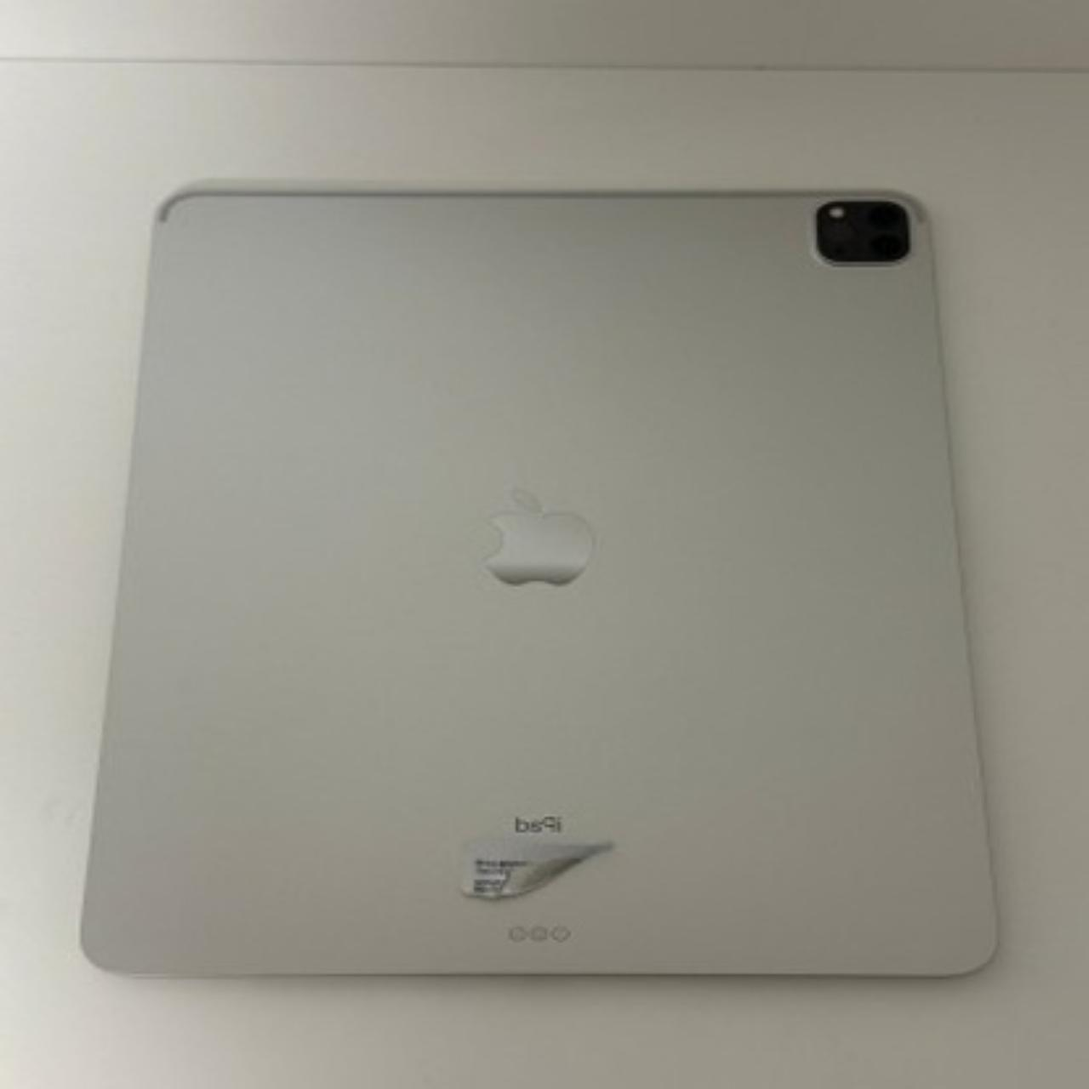Tablet_PC: (60, 178, 1015, 1010)
